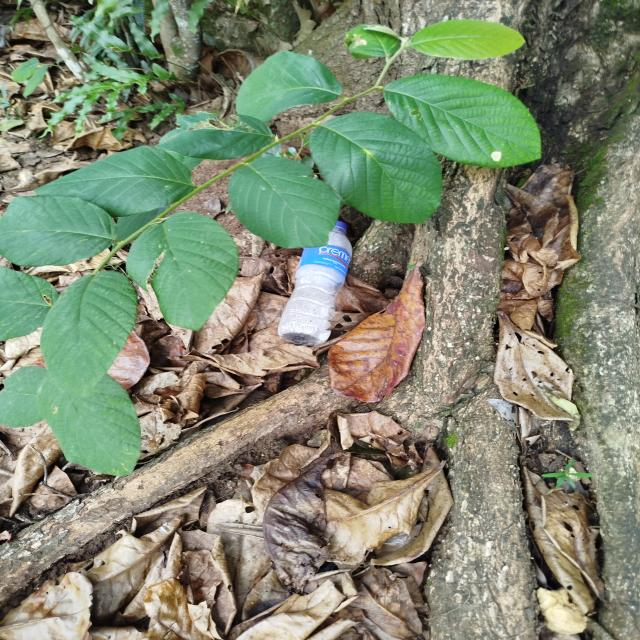plastic: (272, 210, 364, 354)
